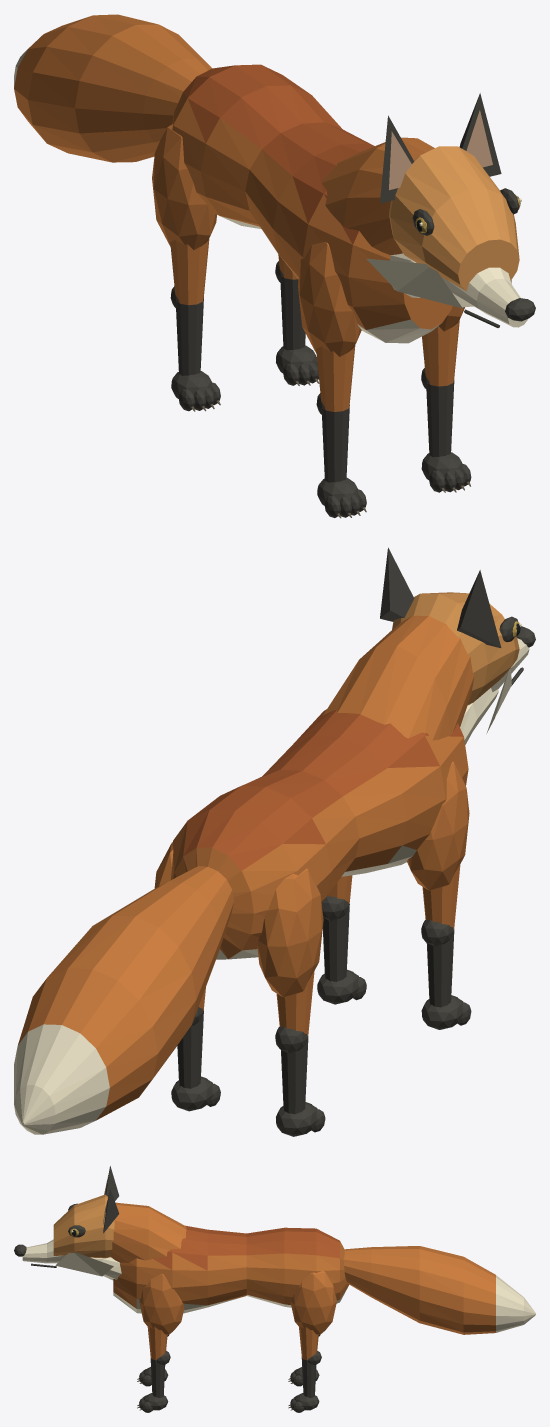
Rendered from fox.glb.
The picture shows the model from 3 angles, top to bottom: view 1: azimuth 30°, elevation 25°; view 2: azimuth 150°, elevation 25°; view 3: azimuth 270°, elevation 25°; orthographic projection. The views are drawn at different scales.
Visible parts, largest first — view 1: Body_mesh, Head_mesh, Tail_mesh, UpperLeg.002_mesh, UpperLeg_mesh, UpperLeg.001_mesh, LowerLeg.001_mesh, LowerLeg_mesh, LowerLeg.002_mesh, EarHinge.001_mesh, EarHinge_mesh, LowerLeg.003_mesh (+4 smaller); view 2: Body_mesh, Tail_mesh, Head_mesh, UpperLeg.002_mesh, UpperLeg_mesh, LowerLeg.002_mesh, LowerLeg_mesh, LowerLeg.001_mesh, EarHinge_mesh, LowerLeg.003_mesh, EarHinge.001_mesh, Foot.001_mesh (+3 smaller); view 3: Body_mesh, Tail_mesh, Head_mesh, UpperLeg.003_mesh, UpperLeg.001_mesh, LowerLeg.001_mesh, LowerLeg.003_mesh, Foot.001_mesh, Foot.003_mesh, EarHinge.001_mesh.
Boxes of the visible parts, left/top/right/bottom form: Body_mesh: left=172, top=64, right=452, bottom=343; Head_mesh: left=322, top=137, right=535, bottom=327; Tail_mesh: left=14, top=14, right=211, bottom=162; UpperLeg.002_mesh: left=152, top=124, right=216, bottom=305; UpperLeg_mesh: left=298, top=242, right=361, bottom=411; UpperLeg.001_mesh: left=422, top=306, right=464, bottom=386; LowerLeg.001_mesh: left=421, top=367, right=454, bottom=457; LowerLeg_mesh: left=316, top=393, right=349, bottom=482; LowerLeg.002_mesh: left=170, top=286, right=203, bottom=375; EarHinge.001_mesh: left=459, top=93, right=501, bottom=176; EarHinge_mesh: left=380, top=115, right=414, bottom=203; LowerLeg.003_mesh: left=275, top=261, right=305, bottom=350; Body_mesh: left=170, top=709, right=468, bottom=959; Tail_mesh: left=14, top=866, right=233, bottom=1134; Head_mesh: left=323, top=592, right=535, bottom=744; UpperLeg.002_mesh: left=257, top=868, right=323, bottom=1035; UpperLeg_mesh: left=407, top=761, right=469, bottom=929; LowerLeg.002_mesh: left=275, top=1026, right=308, bottom=1114; LowerLeg_mesh: left=421, top=919, right=454, bottom=1007; LowerLeg.001_mesh: left=321, top=896, right=349, bottom=981; EarHinge_mesh: left=457, top=570, right=501, bottom=647; LowerLeg.003_mesh: left=177, top=1006, right=203, bottom=1088; EarHinge.001_mesh: left=380, top=547, right=414, bottom=621; Foot.001_mesh: left=317, top=969, right=366, bottom=1004; Body_mesh: left=113, top=1225, right=349, bottom=1313; Tail_mesh: left=344, top=1246, right=535, bottom=1334; Head_mesh: left=14, top=1194, right=186, bottom=1280; UpperLeg.003_mesh: left=290, top=1271, right=336, bottom=1360; UpperLeg.001_mesh: left=139, top=1273, right=184, bottom=1360; LowerLeg.001_mesh: left=150, top=1350, right=170, bottom=1397; LowerLeg.003_mesh: left=301, top=1351, right=321, bottom=1397; Foot.001_mesh: left=137, top=1393, right=168, bottom=1412; Foot.003_mesh: left=288, top=1393, right=319, bottom=1412; EarHinge.001_mesh: left=103, top=1189, right=119, bottom=1233.
Size of the model in its own units: 0.3121 by 0.8211 by 1.77.
